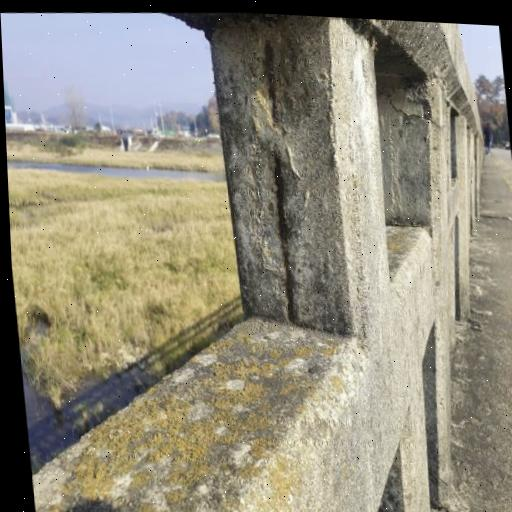exposed_rebar: (274, 155, 295, 323), (263, 41, 279, 123)
